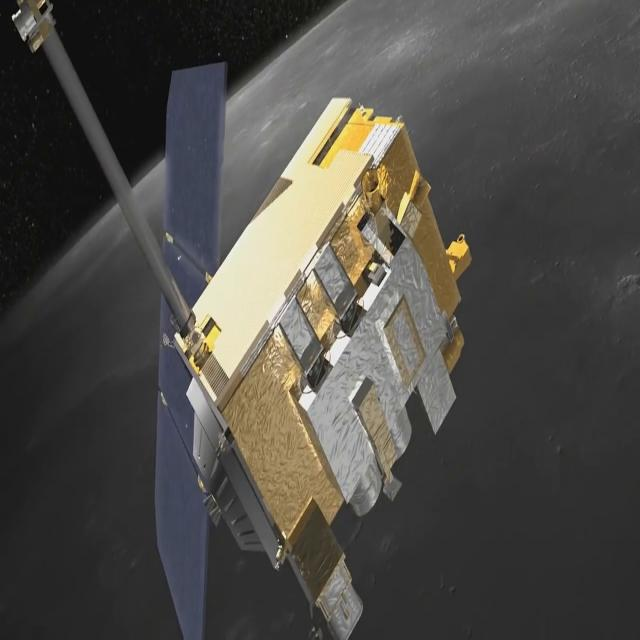satellite: (0, 0, 489, 640)
